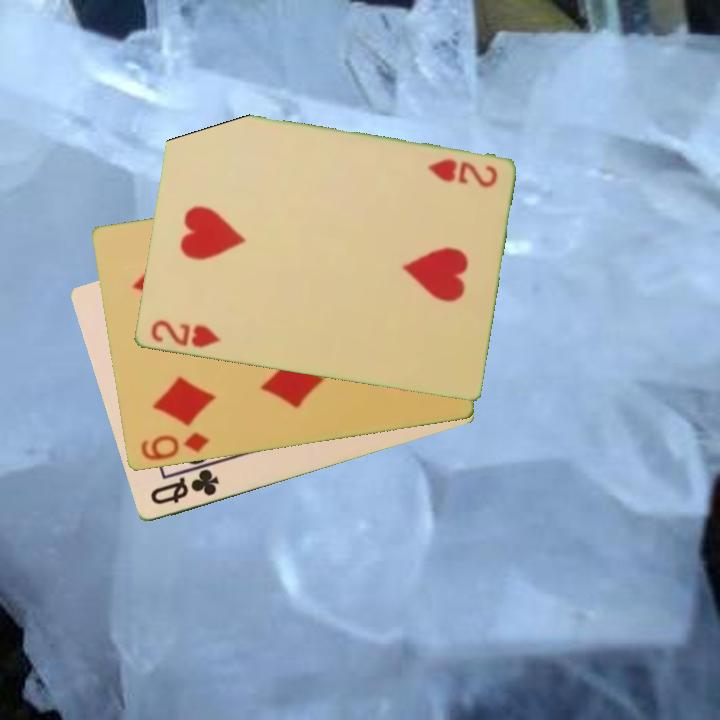2h: (146, 316, 223, 352), (423, 155, 500, 191)
6d: (136, 429, 212, 464)
Qc: (146, 466, 222, 508)
